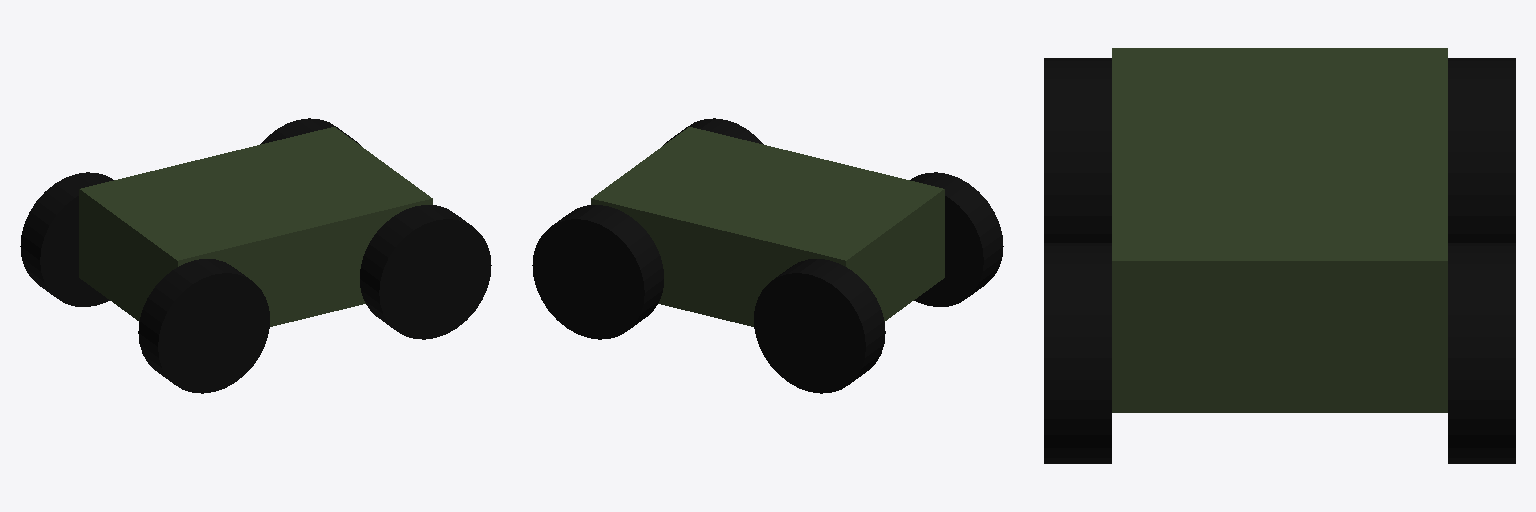
The robot description file, URDF, robot "netra_ugv":
<?xml version="1.0"?>
<!--
  NETRA-UGV 4-wheel skid-steer chassis for Gazebo Harmonic + ROS 2.

  Sensor numbers deliberately mirror the stack configs so the simulated
  streams are drop-in for the real pipeline:
    camera  : fx = fy = 500 px, cx = 640, cy = 360, 1280x720   (perception_params.yaml)
    stereo  : baseline 0.075 m                                  (perception_params.yaml)
    imu     : noise densities of the TDK ICM-42688-P            (vio_params.yaml)
-->
<robot name="netra_ugv">

  <link name="base_footprint"/>

  <joint name="base_footprint_joint" type="fixed">
    <parent link="base_footprint"/>
    <child link="base_link"/>
    <origin xyz="0 0 0.165" rpy="0 0 0"/>
  </joint>

  <!-- Solid box 0.75 x 0.50 x 0.25 m, 45 kg: I = m/12 * (a^2 + b^2) -->
  <link name="base_link">
    <inertial>
      <mass value="45.0"/>
      <origin xyz="0 0 0.05" rpy="0 0 0"/>
      <inertia ixx="1.1719" ixy="0.0" ixz="0.0"
               iyy="2.3438" iyz="0.0"
               izz="3.0469"/>
    </inertial>
    <visual>
      <origin xyz="0 0 0.05" rpy="0 0 0"/>
      <geometry><box size="0.75 0.50 0.25"/></geometry>
      <material name="matte_olive"><color rgba="0.25 0.30 0.20 1.0"/></material>
    </visual>
    <collision>
      <origin xyz="0 0 0.05" rpy="0 0 0"/>
      <geometry><box size="0.75 0.50 0.25"/></geometry>
    </collision>
  </link>

  <!-- Wheels: cylinder r = 0.165 m, l = 0.10 m, 4 kg, spin axis = link y -->
  <link name="front_left_wheel">
    <inertial>
      <mass value="4.0"/>
      <origin xyz="0 0 0" rpy="0 0 0"/>
      <inertia ixx="0.0307" ixy="0" ixz="0" iyy="0.0545" iyz="0" izz="0.0307"/>
    </inertial>
    <visual>
      <origin xyz="0 0 0" rpy="1.570796 0 0"/>
      <geometry><cylinder radius="0.165" length="0.10"/></geometry>
      <material name="tire_rubber"><color rgba="0.1 0.1 0.1 1.0"/></material>
    </visual>
    <collision>
      <origin xyz="0 0 0" rpy="1.570796 0 0"/>
      <geometry><cylinder radius="0.165" length="0.10"/></geometry>
    </collision>
  </link>
  <joint name="front_left_wheel_joint" type="continuous">
    <parent link="base_link"/>
    <child link="front_left_wheel"/>
    <origin xyz="0.325 0.30 0" rpy="0 0 0"/>
    <axis xyz="0 1 0"/>
  </joint>

  <link name="front_right_wheel">
    <inertial>
      <mass value="4.0"/>
      <origin xyz="0 0 0" rpy="0 0 0"/>
      <inertia ixx="0.0307" ixy="0" ixz="0" iyy="0.0545" iyz="0" izz="0.0307"/>
    </inertial>
    <visual>
      <origin xyz="0 0 0" rpy="1.570796 0 0"/>
      <geometry><cylinder radius="0.165" length="0.10"/></geometry>
      <material name="tire_rubber"><color rgba="0.1 0.1 0.1 1.0"/></material>
    </visual>
    <collision>
      <origin xyz="0 0 0" rpy="1.570796 0 0"/>
      <geometry><cylinder radius="0.165" length="0.10"/></geometry>
    </collision>
  </link>
  <joint name="front_right_wheel_joint" type="continuous">
    <parent link="base_link"/>
    <child link="front_right_wheel"/>
    <origin xyz="0.325 -0.30 0" rpy="0 0 0"/>
    <axis xyz="0 1 0"/>
  </joint>

  <link name="rear_left_wheel">
    <inertial>
      <mass value="4.0"/>
      <origin xyz="0 0 0" rpy="0 0 0"/>
      <inertia ixx="0.0307" ixy="0" ixz="0" iyy="0.0545" iyz="0" izz="0.0307"/>
    </inertial>
    <visual>
      <origin xyz="0 0 0" rpy="1.570796 0 0"/>
      <geometry><cylinder radius="0.165" length="0.10"/></geometry>
      <material name="tire_rubber"><color rgba="0.1 0.1 0.1 1.0"/></material>
    </visual>
    <collision>
      <origin xyz="0 0 0" rpy="1.570796 0 0"/>
      <geometry><cylinder radius="0.165" length="0.10"/></geometry>
    </collision>
  </link>
  <joint name="rear_left_wheel_joint" type="continuous">
    <parent link="base_link"/>
    <child link="rear_left_wheel"/>
    <origin xyz="-0.325 0.30 0" rpy="0 0 0"/>
    <axis xyz="0 1 0"/>
  </joint>

  <link name="rear_right_wheel">
    <inertial>
      <mass value="4.0"/>
      <origin xyz="0 0 0" rpy="0 0 0"/>
      <inertia ixx="0.0307" ixy="0" ixz="0" iyy="0.0545" iyz="0" izz="0.0307"/>
    </inertial>
    <visual>
      <origin xyz="0 0 0" rpy="1.570796 0 0"/>
      <geometry><cylinder radius="0.165" length="0.10"/></geometry>
      <material name="tire_rubber"><color rgba="0.1 0.1 0.1 1.0"/></material>
    </visual>
    <collision>
      <origin xyz="0 0 0" rpy="1.570796 0 0"/>
      <geometry><cylinder radius="0.165" length="0.10"/></geometry>
    </collision>
  </link>
  <joint name="rear_right_wheel_joint" type="continuous">
    <parent link="base_link"/>
    <child link="rear_right_wheel"/>
    <origin xyz="-0.325 -0.30 0" rpy="0 0 0"/>
    <axis xyz="0 1 0"/>
  </joint>

  <!-- IMU -->
  <link name="imu_link"/>
  <joint name="imu_joint" type="fixed">
    <parent link="base_link"/>
    <child link="imu_link"/>
    <origin xyz="0 0 0.05" rpy="0 0 0"/>
  </joint>

  <!-- Camera: Gazebo looks along +x of camera_link, ROS optical frame is z-forward -->
  <link name="camera_link"/>
  <joint name="camera_joint" type="fixed">
    <parent link="base_link"/>
    <child link="camera_link"/>
    <origin xyz="0.35 0 0.30" rpy="0 0.087266 0"/>
  </joint>

  <link name="camera_optical_frame"/>
  <joint name="camera_optical_joint" type="fixed">
    <parent link="camera_link"/>
    <child link="camera_optical_frame"/>
    <origin xyz="0 0 0" rpy="-1.570796 0 -1.570796"/>
  </joint>

  <!-- Skid steering needs low lateral grip; mu1 = rolling direction, mu2 = lateral -->
  <gazebo reference="front_left_wheel"><mu1>1.0</mu1><mu2>0.1</mu2><fdir1>1 0 0</fdir1></gazebo>
  <gazebo reference="front_right_wheel"><mu1>1.0</mu1><mu2>0.1</mu2><fdir1>1 0 0</fdir1></gazebo>
  <gazebo reference="rear_left_wheel"><mu1>1.0</mu1><mu2>0.1</mu2><fdir1>1 0 0</fdir1></gazebo>
  <gazebo reference="rear_right_wheel"><mu1>1.0</mu1><mu2>0.1</mu2><fdir1>1 0 0</fdir1></gazebo>

  <!-- IMU @ 500 Hz. White noise sigma = density * sqrt(rate). -->
  <gazebo reference="imu_link">
    <sensor name="netra_imu" type="imu">
      <always_on>true</always_on>
      <update_rate>500</update_rate>
      <topic>/imu/data</topic>
      <gz_frame_id>imu_link</gz_frame_id>
      <imu>
        <angular_velocity>
          <x><noise type="gaussian"><mean>0</mean><stddev>0.0268</stddev></noise></x>
          <y><noise type="gaussian"><mean>0</mean><stddev>0.0268</stddev></noise></y>
          <z><noise type="gaussian"><mean>0</mean><stddev>0.0268</stddev></noise></z>
        </angular_velocity>
        <linear_acceleration>
          <x><noise type="gaussian"><mean>0</mean><stddev>0.1789</stddev></noise></x>
          <y><noise type="gaussian"><mean>0</mean><stddev>0.1789</stddev></noise></y>
          <z><noise type="gaussian"><mean>0</mean><stddev>0.1789</stddev></noise></z>
        </linear_acceleration>
      </imu>
    </sensor>
  </gazebo>

  <!--
    RGB-D stand-in for the stereo rig. Topics: /camera/image, /camera/depth_image,
    /camera/camera_info; netra_sim.depth_to_disparity turns depth into /stereo/disparity.
    horizontal_fov = 2*atan(640/500) = 1.81517 rad so that fx = 500 px.
  -->
  <gazebo reference="camera_link">
    <sensor name="netra_stereo_camera" type="rgbd_camera">
      <update_rate>30</update_rate>
      <always_on>true</always_on>
      <topic>/camera</topic>
      <gz_frame_id>camera_optical_frame</gz_frame_id>
      <camera>
        <horizontal_fov>1.81517</horizontal_fov>
        <image>
          <width>1280</width>
          <height>720</height>
          <format>R8G8B8</format>
        </image>
        <clip>
          <near>0.3</near>
          <far>20.0</far>
        </clip>
      </camera>
    </sensor>
  </gazebo>

  <gazebo>
    <plugin filename="gz-sim-diff-drive-system" name="gz::sim::systems::DiffDrive">
      <left_joint>front_left_wheel_joint</left_joint>
      <left_joint>rear_left_wheel_joint</left_joint>
      <right_joint>front_right_wheel_joint</right_joint>
      <right_joint>rear_right_wheel_joint</right_joint>
      <wheel_separation>0.60</wheel_separation>
      <wheel_radius>0.165</wheel_radius>
      <topic>/cmd_vel</topic>
      <max_linear_velocity>2.0</max_linear_velocity>
      <min_linear_velocity>-1.0</min_linear_velocity>
      <max_angular_velocity>2.5</max_angular_velocity>
      <min_angular_velocity>-2.5</min_angular_velocity>
      <max_linear_acceleration>2.0</max_linear_acceleration>
      <min_linear_acceleration>-4.0</min_linear_acceleration>
    </plugin>

    <!-- True model pose. DiffDrive's own odometry dead-reckons from wheel speed,
         which is meaningless under skid-steer slip, so it is not bridged. -->
    <plugin filename="gz-sim-odometry-publisher-system" name="gz::sim::systems::OdometryPublisher">
      <odom_frame>odom</odom_frame>
      <robot_base_frame>base_footprint</robot_base_frame>
      <odom_topic>/odom_ground_truth</odom_topic>
      <odom_publish_frequency>50</odom_publish_frequency>
      <dimensions>3</dimensions>
    </plugin>

    <plugin filename="gz-sim-joint-state-publisher-system" name="gz::sim::systems::JointStatePublisher">
      <topic>/joint_states</topic>
    </plugin>
  </gazebo>
</robot>

--- Render facts (derived) ---
The picture shows the robot from 3 angles, left to right: view 1: azimuth 30°, elevation 25°; view 2: azimuth 150°, elevation 25°; view 3: azimuth 270°, elevation 25°; orthographic projection.
Model netra_ugv with 9 links and 8 joints (4 continuous, 4 fixed), rooted at base_footprint, posed all joints at 0.
Visible links, largest first — view 1: base_link, front_right_wheel, rear_right_wheel, rear_left_wheel, front_left_wheel; view 2: base_link, front_left_wheel, rear_left_wheel, rear_right_wheel, front_right_wheel; view 3: base_link, front_left_wheel, front_right_wheel, rear_left_wheel, rear_right_wheel.
Link boxes in pixels (<box>): base_link: <box>79,127,432,326</box>; front_right_wheel: <box>360,205,491,339</box>; rear_right_wheel: <box>138,259,269,393</box>; rear_left_wheel: <box>20,172,113,306</box>; front_left_wheel: <box>260,118,360,145</box>; base_link: <box>591,127,944,326</box>; front_left_wheel: <box>532,205,663,339</box>; rear_left_wheel: <box>754,259,885,393</box>; rear_right_wheel: <box>910,172,1003,306</box>; front_right_wheel: <box>663,118,763,145</box>; base_link: <box>1112,48,1447,412</box>; front_left_wheel: <box>1448,243,1515,463</box>; front_right_wheel: <box>1044,243,1111,463</box>; rear_left_wheel: <box>1448,58,1515,242</box>; rear_right_wheel: <box>1044,58,1111,242</box>.
Bounding box of the posed robot: 0.98 × 0.7 × 0.34 m (x, y, z).
Geometry: primitives only (box / cylinder / sphere), no mesh files.
